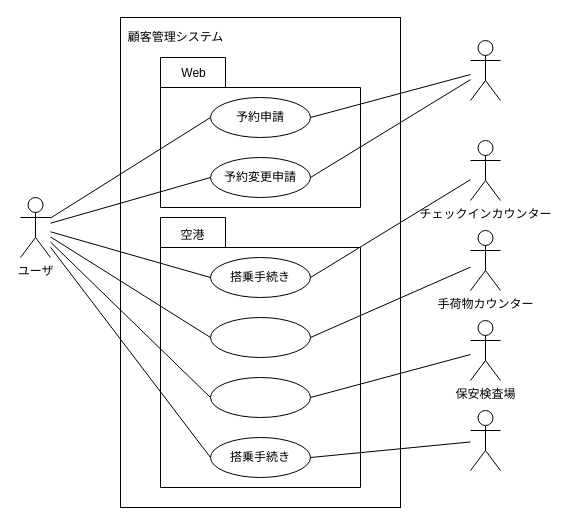
Image size: 568x525. Some labels were removed from this diagram. The shapes that lost their labels are listed below. From the top down, each one's box as (x1, y1, x2, y2) in pixels, then its label:
(470, 40, 500, 100): 予約管理システム
(210, 316, 310, 358): 手荷物を預ける
(210, 376, 310, 418): 保安検査
(470, 410, 500, 470): 搭乗ゲート
